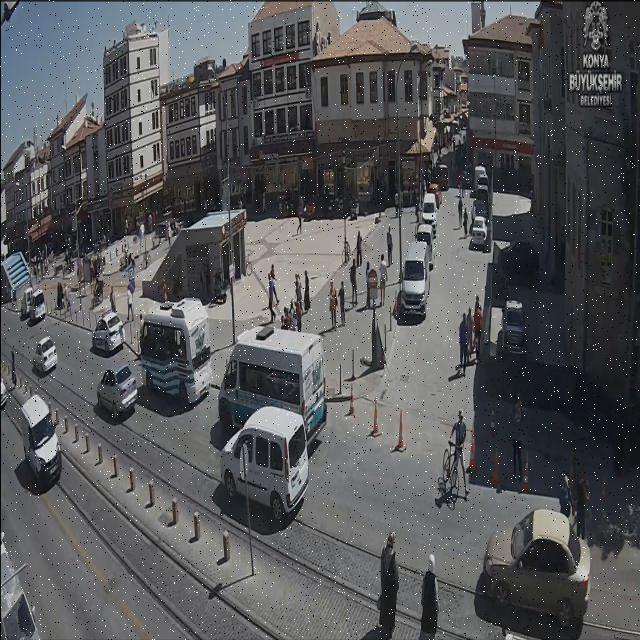Bus: (138, 298, 214, 405)
Car: (481, 506, 593, 633), (96, 362, 138, 418), (91, 312, 125, 354), (501, 300, 526, 354), (33, 335, 58, 373), (469, 216, 489, 248), (421, 193, 438, 230), (28, 289, 46, 323), (416, 223, 434, 251)
Cycle: (438, 446, 467, 503)
Van: (216, 328, 329, 446), (218, 406, 310, 524), (15, 394, 62, 490), (398, 243, 432, 320)
